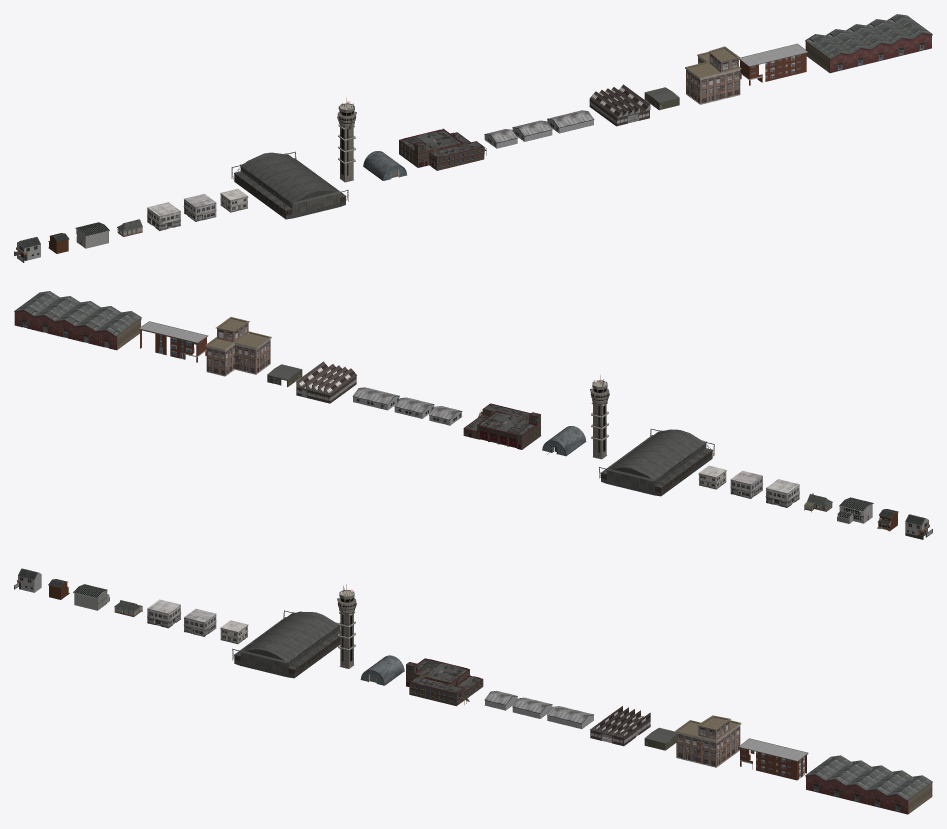
The model's file is buildings.glb.
The picture shows the model from 3 angles, top to bottom: view 1: azimuth 30°, elevation 25°; view 2: azimuth 150°, elevation 25°; view 3: azimuth 330°, elevation 25°; orthographic projection.
Parts seen in each view (by area): view 1: B_hangar, B_wh99, B_firestation, B_industrial, B_flats1, B_wh3, B_sawtooth, B_atc, B_quonset, B_conc1, B_conc2, B_jph3 (+3 smaller); view 2: B_hangar, B_wh99, B_industrial, B_firestation, B_wh3, B_sawtooth, B_flats1, B_atc, B_quonset, B_jph3, B_conc1, B_conc2 (+3 smaller); view 3: B_wh99, B_hangar, B_industrial, B_firestation, B_flats1, B_wh3, B_sawtooth, B_atc, B_quonset, B_conc1, B_jph3, B_conc2 (+2 smaller).
Part boxes in pixels (x1,y1,x2,y2): B_hangar: (231, 151, 348, 219); B_wh99: (805, 14, 932, 73); B_firestation: (399, 128, 486, 170); B_industrial: (685, 46, 741, 104); B_flats1: (739, 43, 808, 85); B_wh3: (484, 110, 594, 148); B_sawtooth: (589, 84, 650, 126); B_atc: (337, 97, 356, 182); B_quonset: (363, 151, 407, 180); B_conc1: (147, 202, 180, 230); B_conc2: (183, 193, 216, 221); B_jph3: (75, 222, 109, 248); B_hangar: (599, 428, 714, 496); B_wh99: (14, 291, 141, 350); B_industrial: (205, 317, 271, 376); B_firestation: (463, 403, 540, 449); B_wh3: (352, 387, 462, 425); B_sawtooth: (296, 361, 356, 403); B_flats1: (138, 321, 208, 362); B_atc: (590, 374, 609, 459); B_quonset: (542, 426, 586, 456); B_jph3: (837, 497, 873, 523); B_conc1: (765, 479, 799, 507); B_conc2: (730, 470, 763, 498); B_wh99: (805, 755, 932, 814); B_hangar: (232, 610, 340, 678); B_industrial: (675, 715, 741, 767); B_firestation: (406, 658, 483, 706); B_flats1: (738, 738, 808, 780); B_wh3: (484, 691, 593, 728); B_sawtooth: (590, 706, 650, 746); B_atc: (337, 584, 356, 668); B_quonset: (360, 655, 404, 685); B_conc1: (147, 599, 180, 628); B_jph3: (73, 584, 109, 610); B_conc2: (184, 608, 216, 636).
Size of the model in its own units: 1218 by 106 by 126.
Materials: 44 (44 with a texture image).
